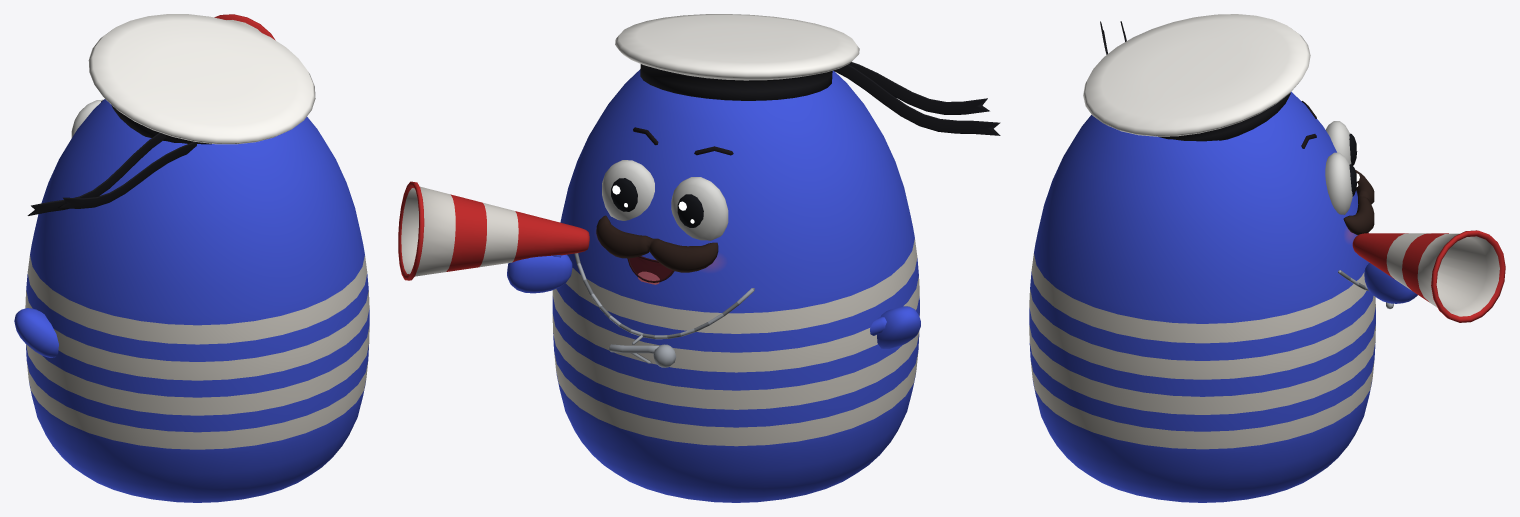
The model's file is boris.glb.
3 views of the same model, side by side, from view 1: azimuth 30°, elevation 25°; view 2: azimuth 150°, elevation 25°; view 3: azimuth 270°, elevation 25° (orthographic). The views are drawn at different scales.
Visible parts, largest first — view 1: body, hand.L, prop; view 2: body, prop, eyes, hand.R, hand.L; view 3: body, prop, eyes, hand.R.
Boxes of the visible parts, x1,y1,x2,y2 form: body: (25,14,369,502); hand.L: (14,308,58,357); prop: (214,14,275,40); body: (552,14,1000,502); prop: (398,181,589,280); eyes: (602,160,728,240); hand.R: (507,254,572,293); hand.L: (870,306,920,348); body: (1029,14,1393,502); prop: (1352,230,1505,322); eyes: (1325,121,1359,214); hand.R: (1364,263,1417,303).
Bounding box in the file's own units: 1.64 × 1.55 × 1.64.
